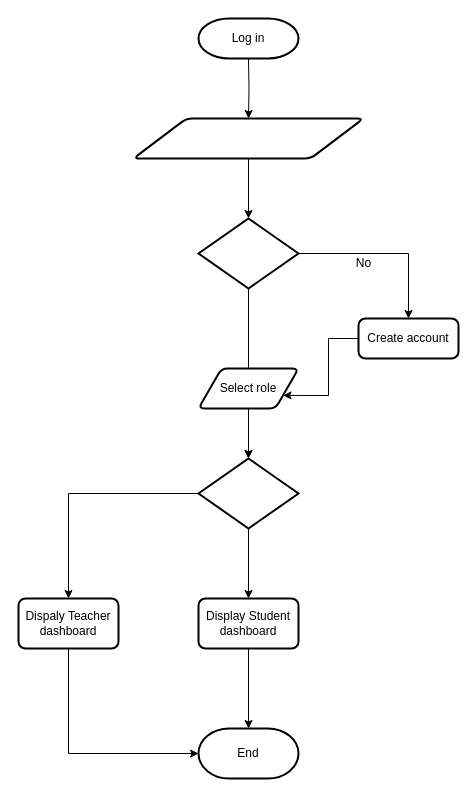
The diagram is 476 pixels wide and 796 high, and some of its shapes have lost their labels. The centre of each missing label's shape, as x and y in pixels:
"Account exist?" goes at point 248,253.
"Enter username and password" goes at point 248,138.
"Is student?" goes at point 248,493.
